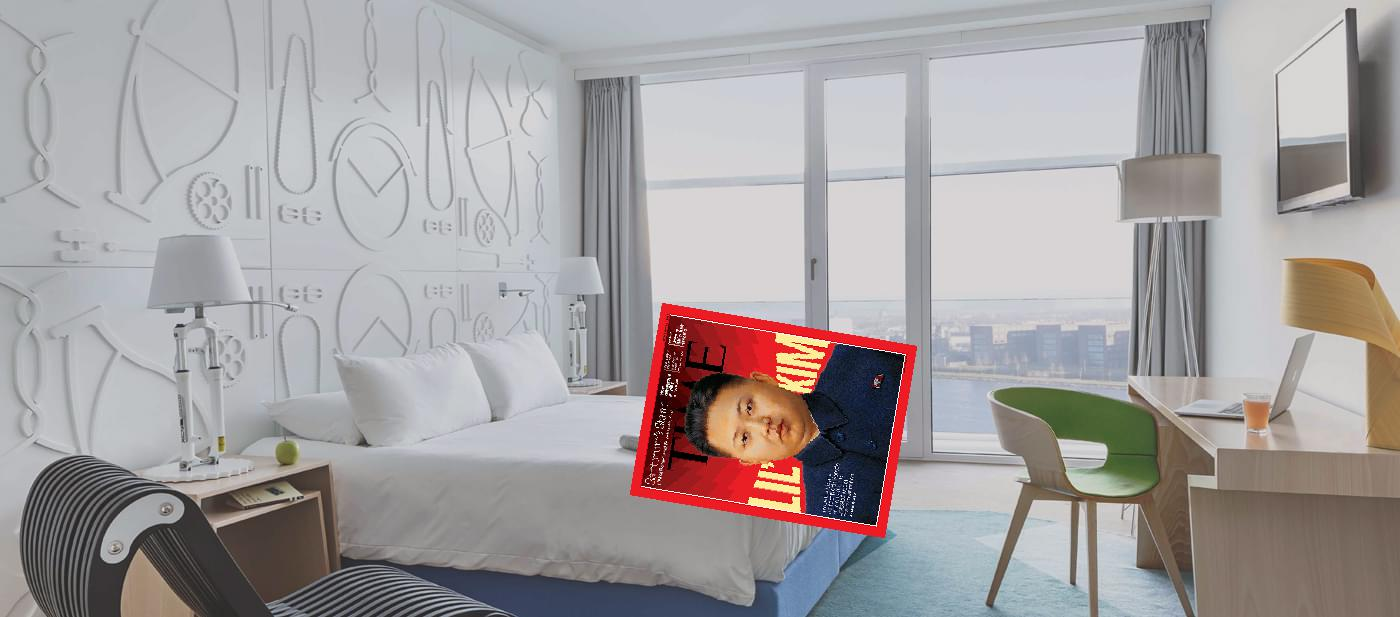times: (629, 299, 924, 543)
